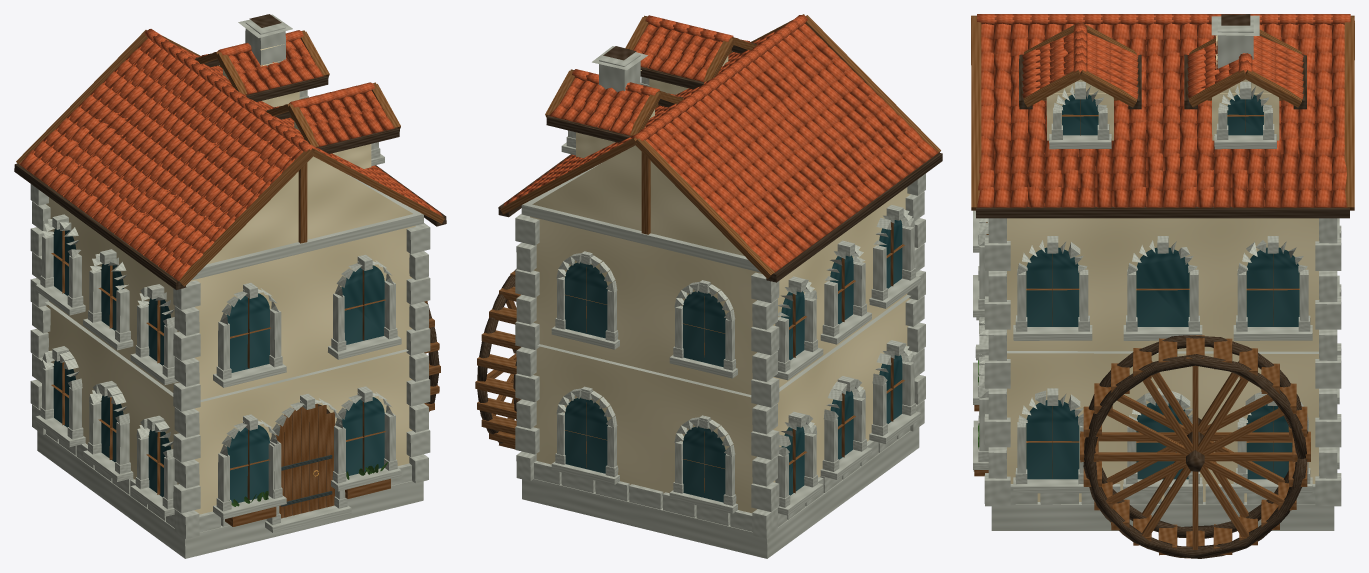
File: watermill.glb
3 views of the same model, side by side, from view 1: azimuth 30°, elevation 25°; view 2: azimuth 150°, elevation 25°; view 3: azimuth 270°, elevation 25° (orthographic). The views are drawn at different scales.
Visible parts, largest first — view 1: watermill_Structure.001, watermill_Roof.001, watermill_Detail.001, watermill_Joinery.001, watermill_Glazing.001; view 2: watermill_Structure.001, watermill_Roof.001, watermill_Detail.001, watermill_Joinery.001, watermill_Glazing.001; view 3: watermill_Structure.001, watermill_Roof.001, watermill_Joinery.001, watermill_Detail.001, watermill_Glazing.001.
Part boxes in pixels (x1,y1,x2,y2): watermill_Structure.001: (30,14,430,558); watermill_Roof.001: (19,29,442,280); watermill_Detail.001: (35,90,401,532); watermill_Joinery.001: (14,29,446,526); watermill_Glazing.001: (53,229,384,503); watermill_Structure.001: (515,46,925,558); watermill_Roof.001: (503,15,938,272); watermill_Detail.001: (551,76,920,515); watermill_Joinery.001: (475,14,942,493); watermill_Glazing.001: (565,220,902,502); watermill_Structure.001: (984,14,1341,530); watermill_Roof.001: (977,14,1350,207); watermill_Joinery.001: (971,15,1354,558); watermill_Detail.001: (973,81,1339,493); watermill_Glazing.001: (1026,93,1299,479).
Size of the model in its own units: 7.27 by 9.01 by 6.5.
Materials: 4 (4 with a texture image).
